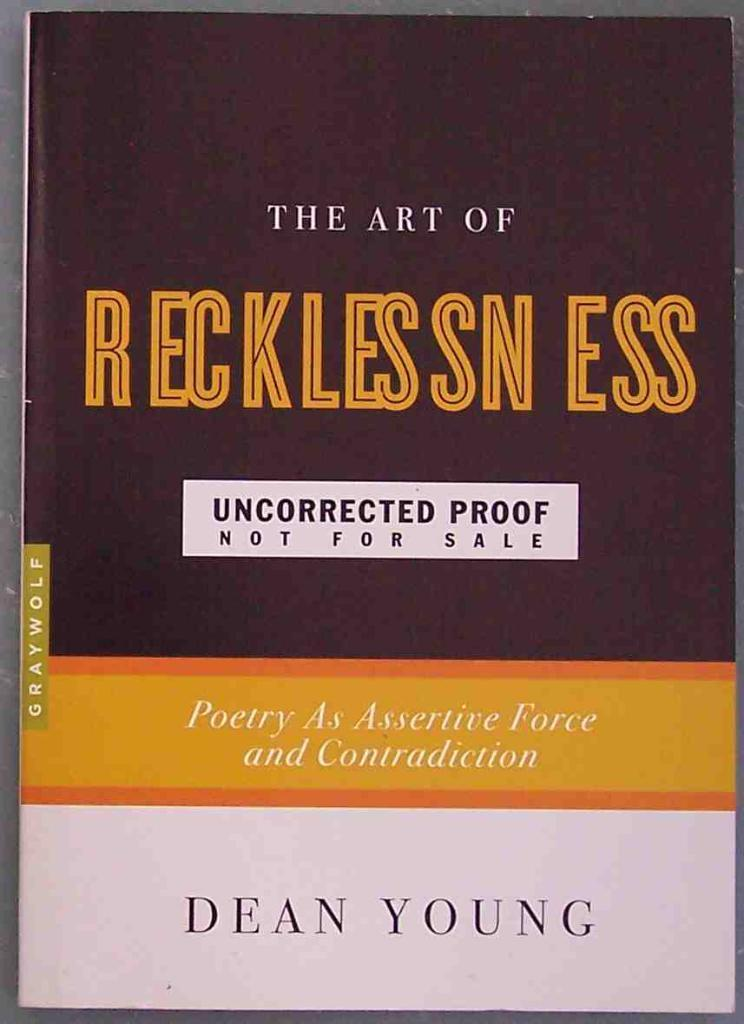book: (30, 45, 737, 1001)
